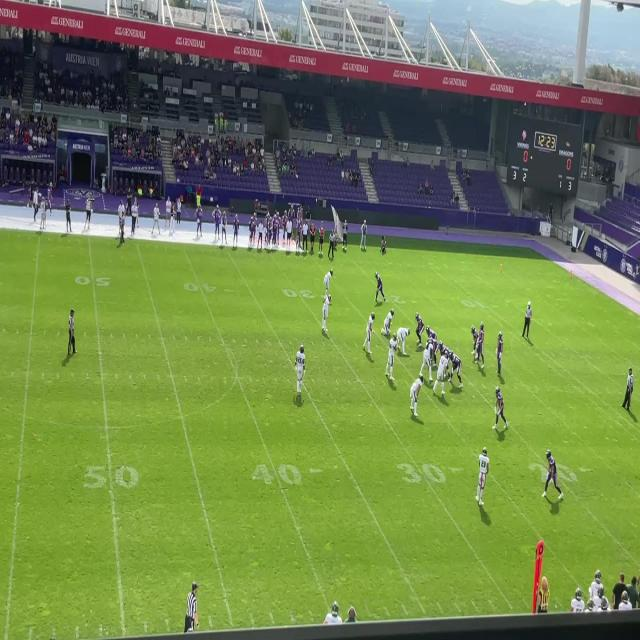4: (249, 456, 273, 491)
5: (82, 458, 110, 495)
american-football-players: (541, 448, 565, 508), (475, 446, 492, 506), (491, 387, 511, 436), (430, 352, 450, 398), (292, 342, 306, 400), (409, 375, 427, 418), (474, 315, 488, 370), (362, 309, 376, 358), (447, 352, 465, 390), (385, 333, 398, 383), (420, 337, 434, 383), (320, 293, 333, 339), (412, 309, 426, 348), (372, 269, 387, 302), (320, 266, 336, 294), (396, 326, 410, 358), (468, 322, 479, 361), (496, 330, 505, 375), (424, 324, 439, 347), (382, 306, 394, 334), (435, 339, 451, 358)
numbers: (396, 459, 422, 489)
